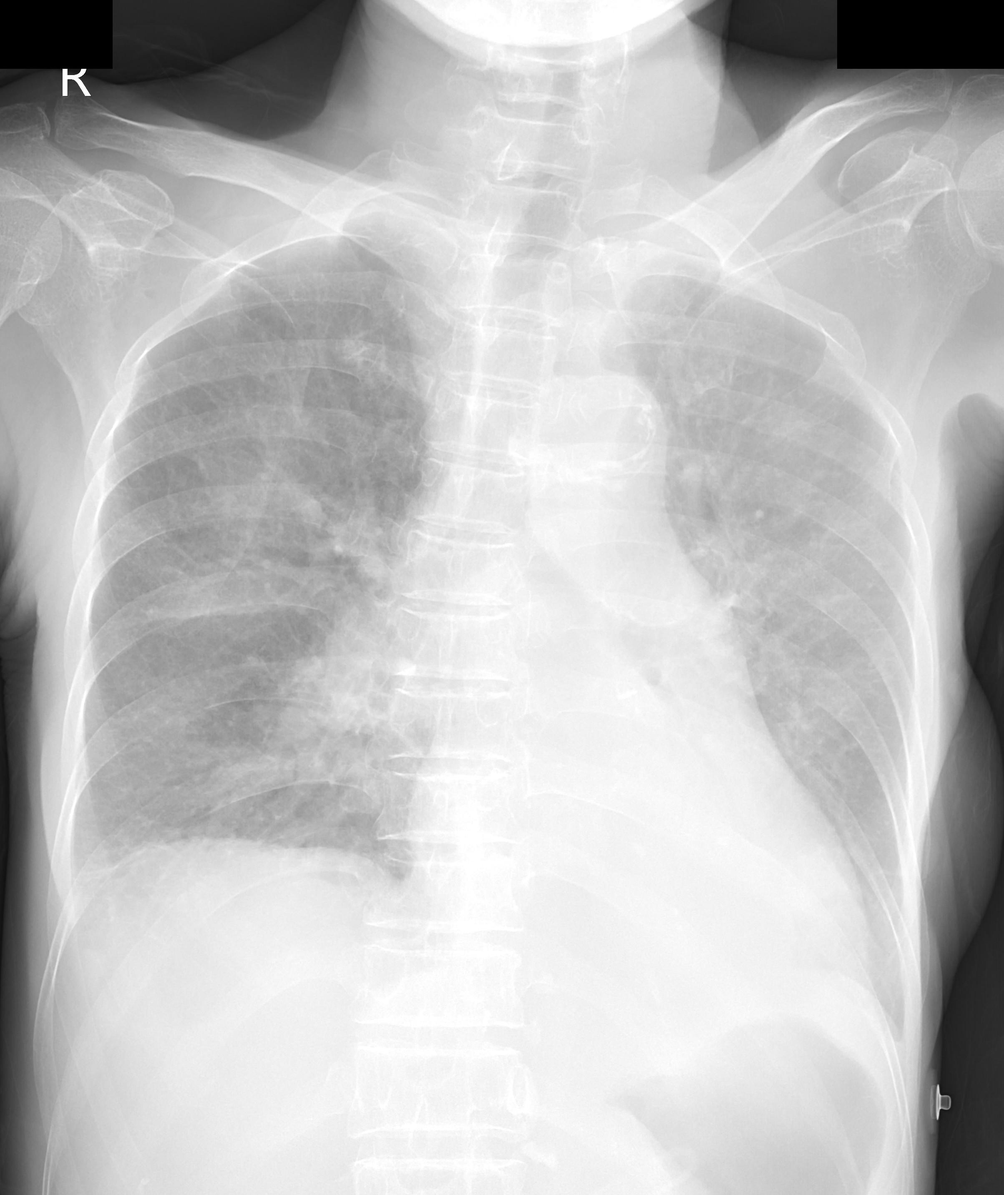Aortic enlargement: (534, 367, 666, 502)
Pleural thickening: (55, 804, 121, 953)
Pulmonary fibrosis: (81, 838, 312, 890)
